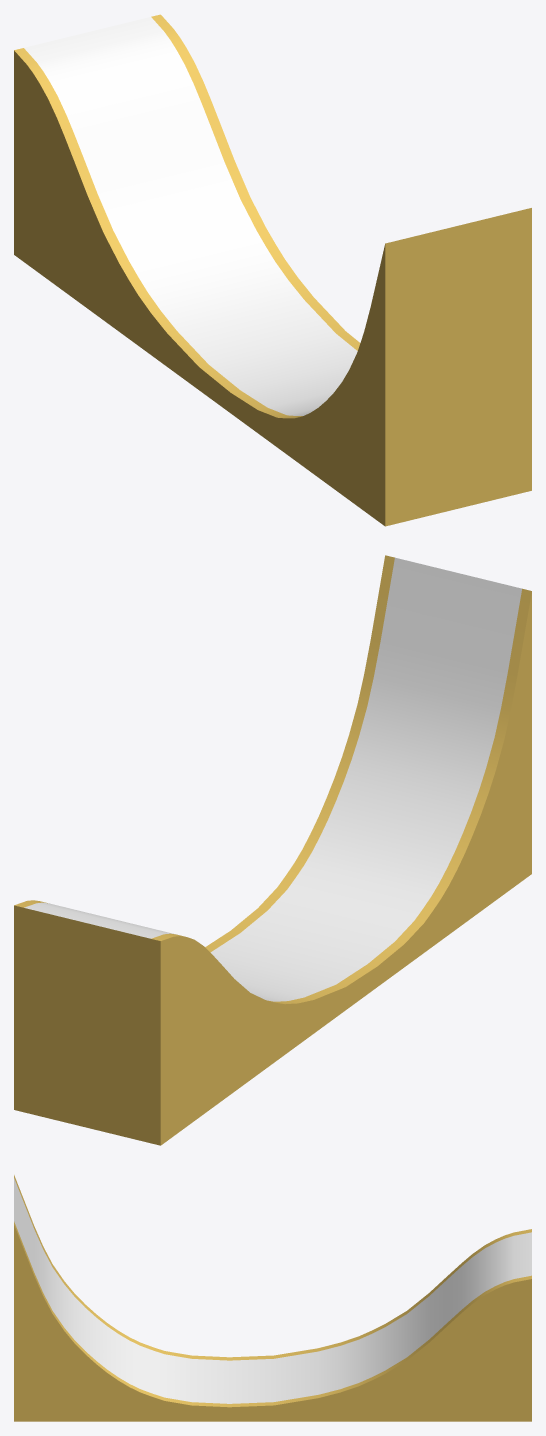
Rendered from Ramp.fbx.
3 renders of one model, top to bottom at view 1: azimuth 30°, elevation 25°; view 2: azimuth 150°, elevation 25°; view 3: azimuth 270°, elevation 25°, orthographic. The views are drawn at different scales.
Visible parts, largest first — view 1: Cube.002; view 2: Cube.002; view 3: Cube.002.
Part boxes in pixels (x1,y1,x2,y2): Cube.002: (14,14,531,526); Cube.002: (14,555,531,1145); Cube.002: (14,1175,531,1421).
Bounding box in the file's own units: 468 × 863 × 2051.
1 material, 1 textured.
